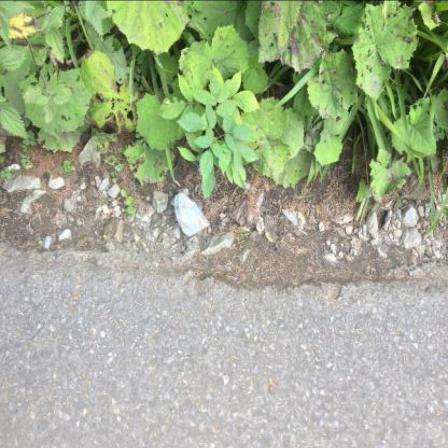Can: (175, 190, 211, 238)
